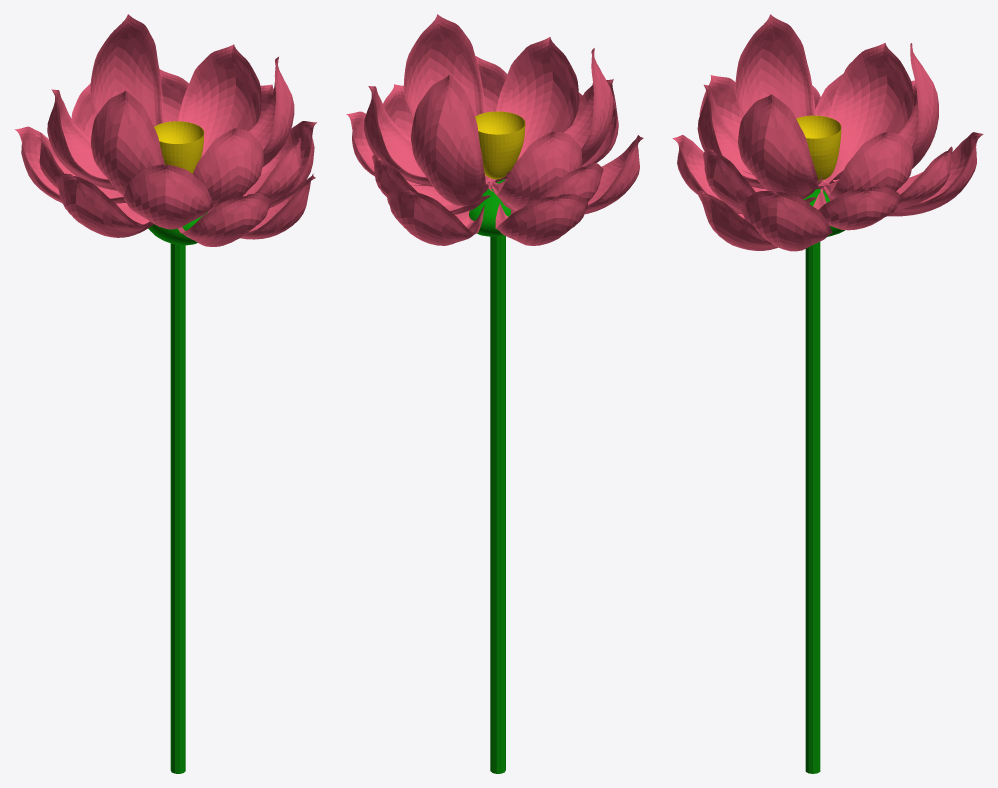
Rendered from Lotus063.fbx.
The picture shows the model from 3 angles, left to right: view 1: azimuth 30°, elevation 25°; view 2: azimuth 150°, elevation 25°; view 3: azimuth 270°, elevation 25°; orthographic projection.
Visible parts, largest first — view 1: pCylinder1, nurbsToPoly19, nurbsToPoly23, nurbsToPoly21, nurbsToPoly16, nurbsToPoly18, nurbsToPoly11, nurbsToPoly8, nurbsToPoly20, nurbsToPoly22, pSphere3, nurbsToPoly24 (+7 smaller); view 2: pCylinder1, nurbsToPoly23, nurbsToPoly18, nurbsToPoly22, nurbsToPoly20, nurbsToPoly10, nurbsToPoly12, nurbsToPoly19, pSphere3, nurbsToPoly21, nurbsToPoly11, nurbsToPoly17 (+6 smaller); view 3: pCylinder1, nurbsToPoly20, nurbsToPoly22, nurbsToPoly21, nurbsToPoly9, nurbsToPoly19, nurbsToPoly15, nurbsToPoly23, nurbsToPoly18, nurbsToPoly10, nurbsToPoly24, pSphere3 (+4 smaller).
Boxes of the visible parts, x1=… form: pCylinder1: x1=170, y1=243, x2=185, y2=773; nurbsToPoly19: x1=178, y1=44, x2=261, y2=157; nurbsToPoly23: x1=90, y1=14, x2=163, y2=126; nurbsToPoly21: x1=90, y1=90, x2=164, y2=195; nurbsToPoly16: x1=123, y1=164, x2=212, y2=229; nurbsToPoly18: x1=192, y1=128, x2=263, y2=212; nurbsToPoly11: x1=56, y1=173, x2=154, y2=237; nurbsToPoly8: x1=178, y1=193, x2=270, y2=246; nurbsToPoly20: x1=47, y1=89, x2=117, y2=190; nurbsToPoly22: x1=249, y1=57, x2=294, y2=166; pSphere3: x1=154, y1=121, x2=204, y2=173; nurbsToPoly24: x1=240, y1=173, x2=315, y2=239; pCylinder1: x1=490, y1=235, x2=505, y2=773; nurbsToPoly23: x1=411, y1=74, x2=490, y2=205; nurbsToPoly18: x1=487, y1=37, x2=578, y2=183; nurbsToPoly22: x1=403, y1=14, x2=485, y2=116; nurbsToPoly20: x1=489, y1=131, x2=582, y2=209; nurbsToPoly10: x1=387, y1=188, x2=484, y2=245; nurbsToPoly12: x1=495, y1=194, x2=587, y2=245; nurbsToPoly19: x1=364, y1=86, x2=494, y2=186; pSphere3: x1=475, y1=111, x2=525, y2=179; nurbsToPoly21: x1=501, y1=48, x2=613, y2=178; nurbsToPoly11: x1=584, y1=135, x2=643, y2=214; nurbsToPoly17: x1=372, y1=154, x2=490, y2=214; pCylinder1: x1=805, y1=242, x2=820, y2=773; nurbsToPoly20: x1=821, y1=43, x2=913, y2=184; nurbsToPoly22: x1=738, y1=94, x2=823, y2=199; nurbsToPoly21: x1=735, y1=14, x2=815, y2=118; nurbsToPoly9: x1=741, y1=191, x2=832, y2=251; nurbsToPoly19: x1=821, y1=132, x2=913, y2=199; nurbsToPoly15: x1=813, y1=186, x2=900, y2=230; nurbsToPoly23: x1=833, y1=43, x2=938, y2=182; nurbsToPoly18: x1=697, y1=84, x2=826, y2=189; nurbsToPoly10: x1=888, y1=132, x2=983, y2=216; nurbsToPoly24: x1=698, y1=190, x2=777, y2=250; pSphere3: x1=796, y1=115, x2=841, y2=180.
Bounding box in the file's own units: 18.74 × 52.34 × 20.33.
